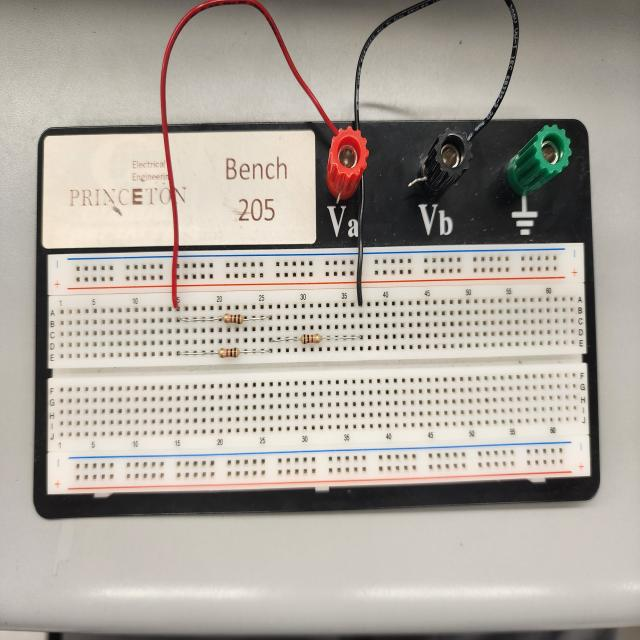Resistor Carbon-Film: (216, 346, 241, 360), (301, 334, 324, 346), (224, 313, 244, 324)
